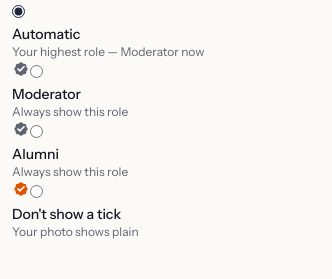
Test case: BadgeRolePicker › offers automatic, each held role and none, and saves the pick
The width and height of the screenshot is (332, 279).
Expected: the radio button labelled "Automatic Your highest role — Moderator now" is checked, [12,5,25,18]
Expected: the radio button labelled "Don't show a tick Your photo shows plain" is shown, [30,185,43,198]
What coordinates should you click on to do the following:
click the radio button labelled "Alumni Always show this role"
I would click on:
 (36, 132)
Its box is [30,125,43,138].
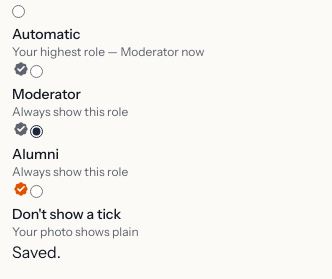
Expected: the text "Saved." is shown, [12,242,61,262]
